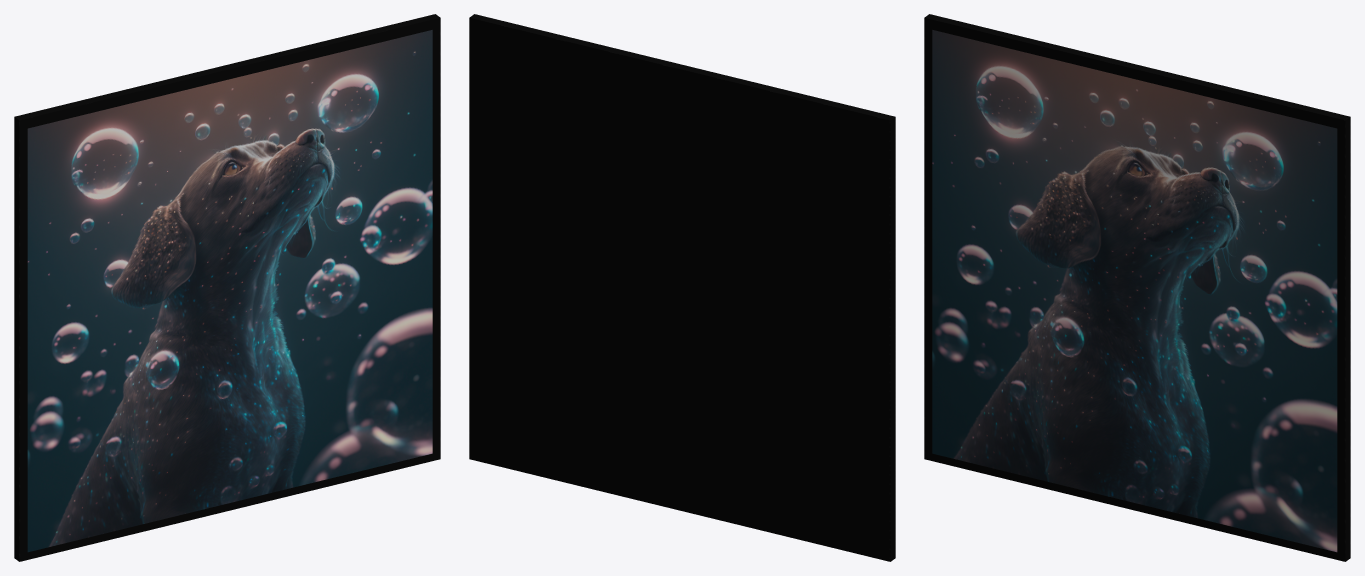
Rendered from Dog1.glb.
The picture shows the model from 3 angles, left to right: view 1: azimuth 30°, elevation 25°; view 2: azimuth 150°, elevation 25°; view 3: azimuth 330°, elevation 25°; orthographic projection.
Visible parts, largest first — view 1: mesh_id1, node_id27; view 2: node_id27; view 3: mesh_id1, node_id27.
Boxes of the visible parts, box(x1,y1,x2,y2) form: mesh_id1: box(27, 30, 432, 552); node_id27: box(14, 14, 440, 561); node_id27: box(469, 14, 895, 561); mesh_id1: box(932, 30, 1337, 552); node_id27: box(924, 14, 1350, 561).
Bounding box in the file's own units: 0.9899 × 0.9918 × 0.021.
2 materials, 2 textured.
